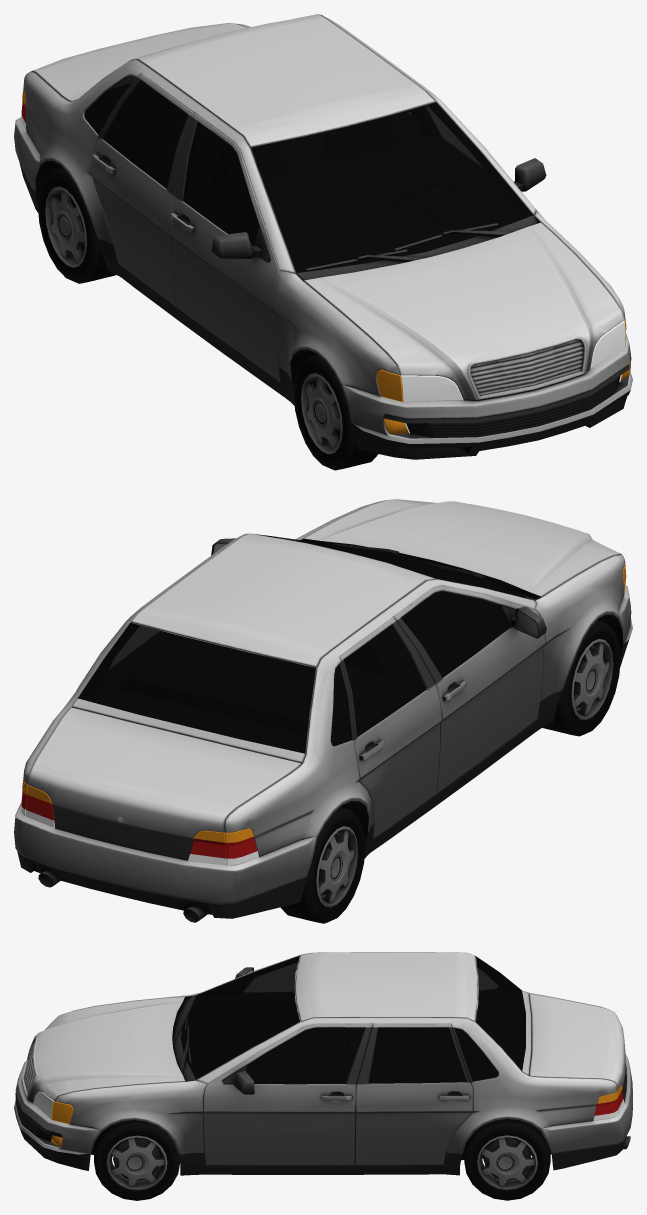
Rendered from car_traffic_2.glb.
3 views of the same model, one above another, from view 1: azimuth 30°, elevation 25°; view 2: azimuth 150°, elevation 25°; view 3: azimuth 270°, elevation 25° (orthographic). The views are drawn at different scales.
Visible parts, largest first — view 1: Body, Glass, WheelFR, WheelRR, Headlights, IndicatorFR; view 2: Body, Glass, WheelRR, WheelFR, Brakelights, Reverselights, IndicatorRR; view 3: Body, Glass, WheelRL, WheelFL, IndicatorFL.
Boxes of the visible parts, left/top/right/bottom form: Body: left=14, top=14, right=632, bottom=459; Glass: left=84, top=75, right=533, bottom=272; WheelFR: left=293, top=354, right=378, bottom=470; WheelRR: left=38, top=167, right=115, bottom=283; Headlights: left=401, top=321, right=625, bottom=433; IndicatorFR: left=376, top=369, right=408, bottom=433; Body: left=14, top=499, right=632, bottom=922; Glass: left=78, top=534, right=531, bottom=753; WheelRR: left=280, top=807, right=365, bottom=923; WheelFR: left=543, top=620, right=620, bottom=736; Brakelights: left=21, top=791, right=257, bottom=858; Reverselights: left=21, top=804, right=258, bottom=865; IndicatorRR: left=193, top=828, right=253, bottom=842; Body: left=14, top=952, right=632, bottom=1175; Glass: left=180, top=955, right=525, bottom=1084; WheelRL: left=464, top=1118, right=550, bottom=1200; WheelFL: left=94, top=1120, right=179, bottom=1200; IndicatorFL: left=51, top=1101, right=73, bottom=1146.
Size of the model in its own units: 2.06 by 1.43 by 4.63.
Materials: 7 (2 with a texture image).
